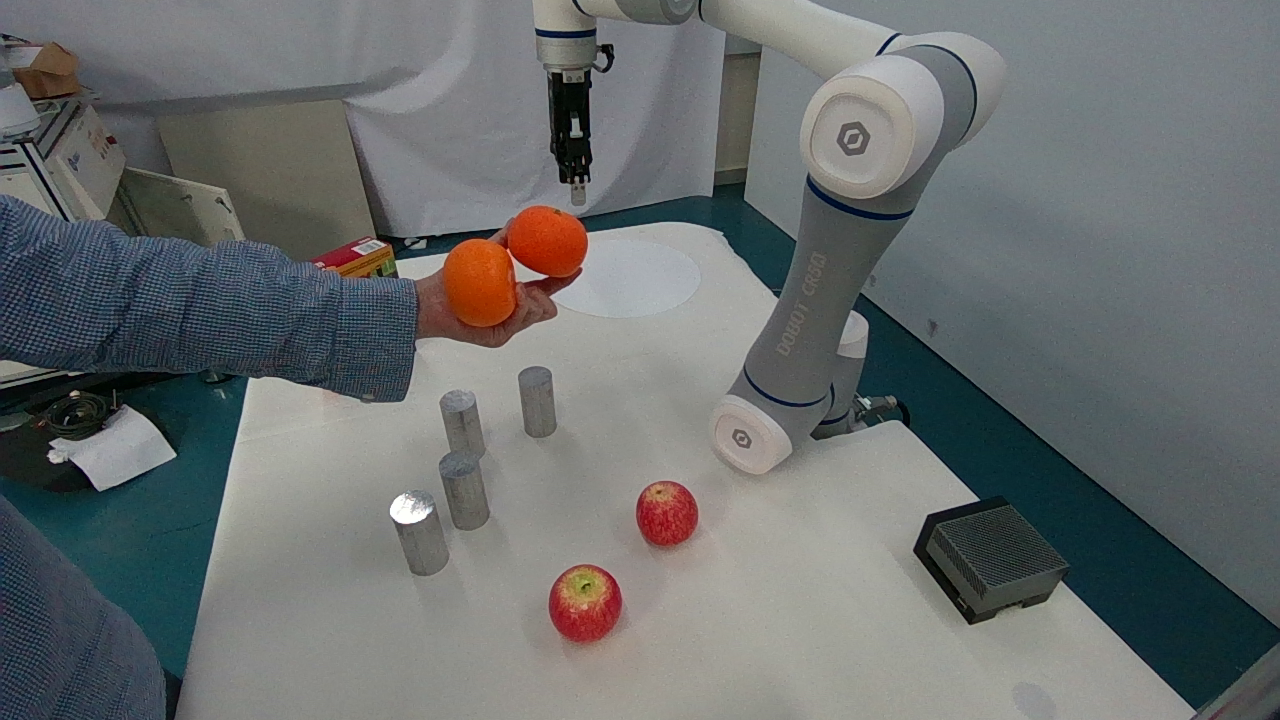apple: (534, 553, 631, 643), (633, 461, 706, 558)
metal rod: (377, 479, 459, 583), (419, 448, 498, 533), (503, 357, 574, 444), (428, 379, 496, 460)
orange: (430, 227, 520, 328), (506, 186, 596, 281)
